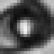correct: (0, 1, 54, 52)
